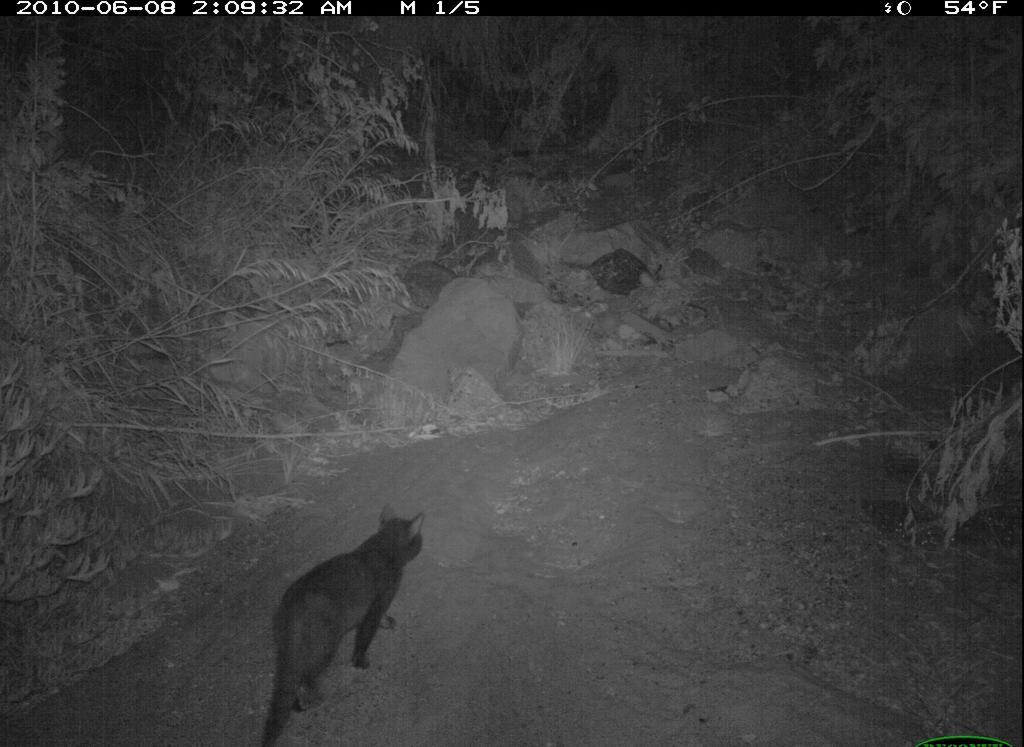cat: (241, 501, 460, 747)
